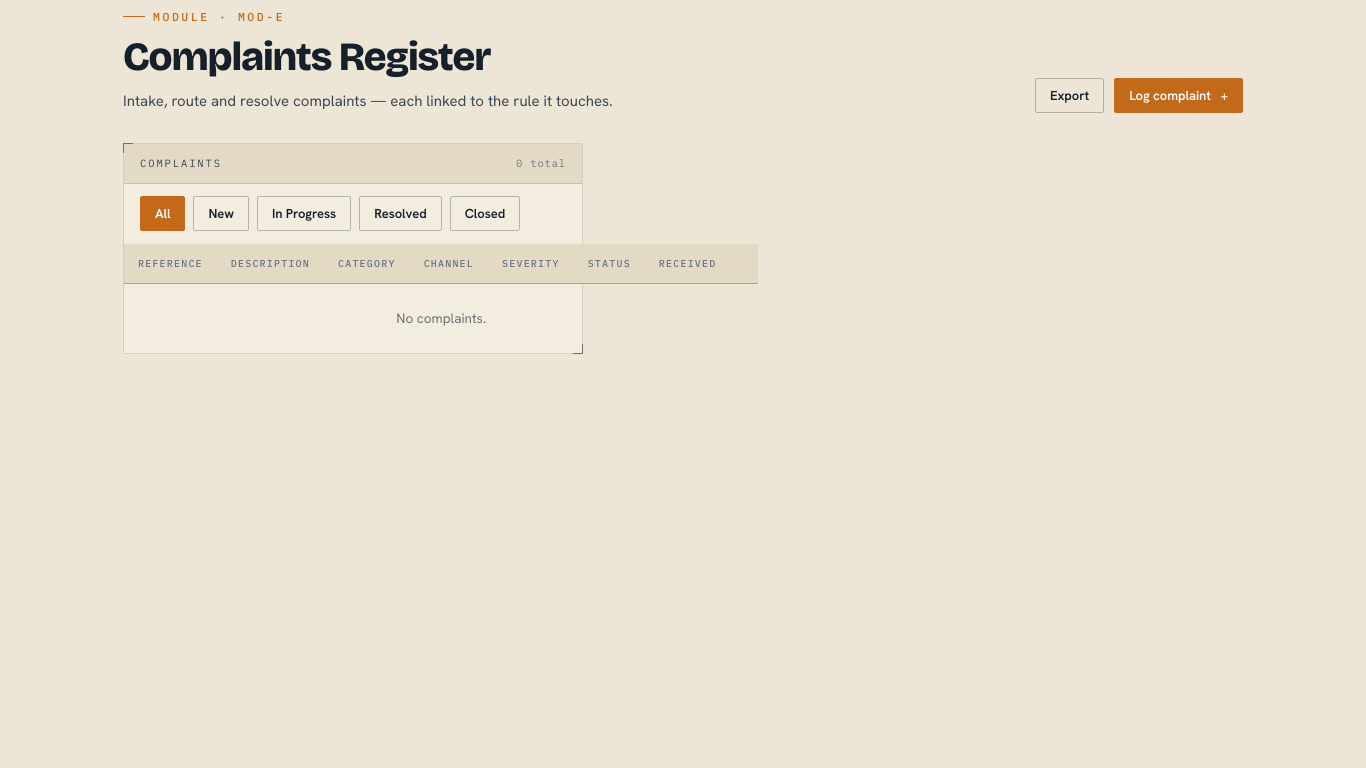
Test: ComplaintsPage › blocks submission when description is empty and shows validation message
Expected: the text "0 total" is shown, [516,156,566,172]
Click the button "Log complaint +". click: [1179, 96]
box: [1114,78,1243,114]
(page scrolled)
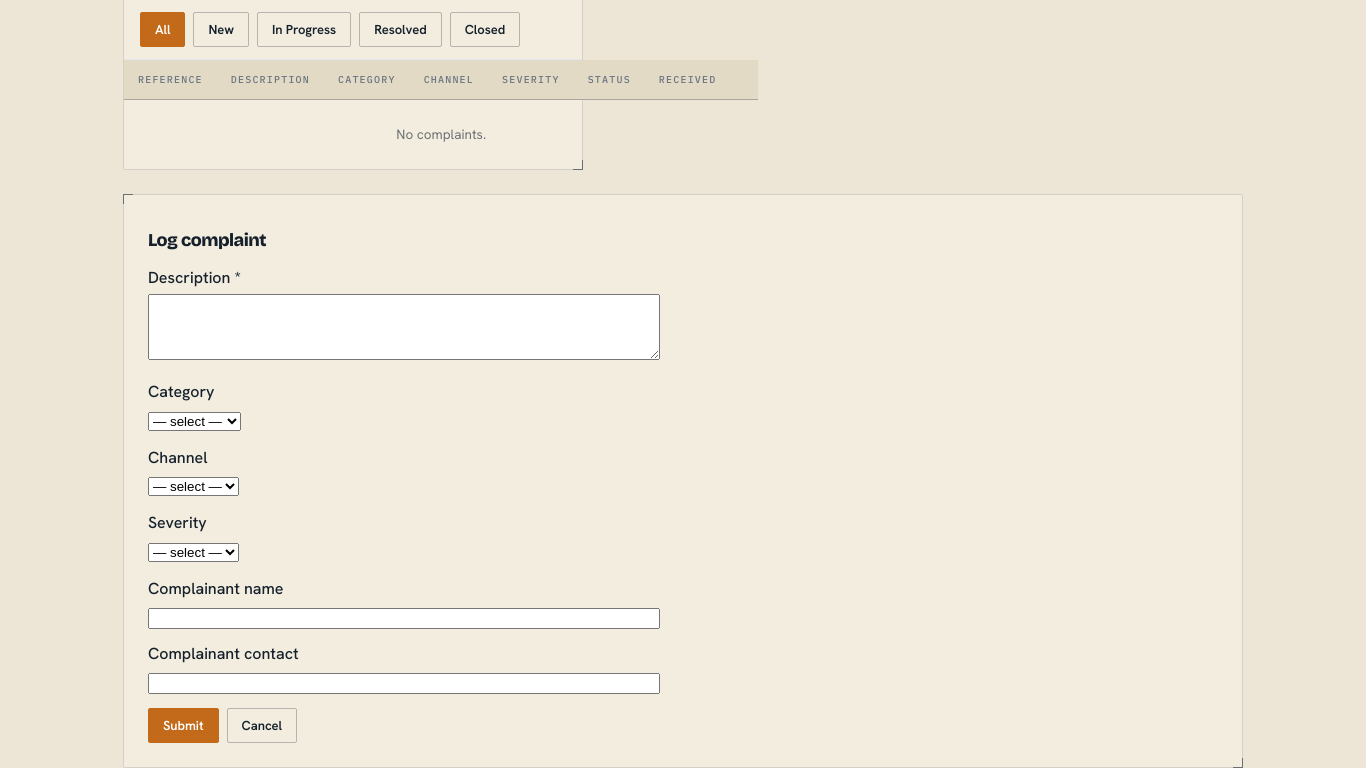
// Don't fill in description
Click the button "Submit". click: [183, 726]
box: [148,708,218,743]
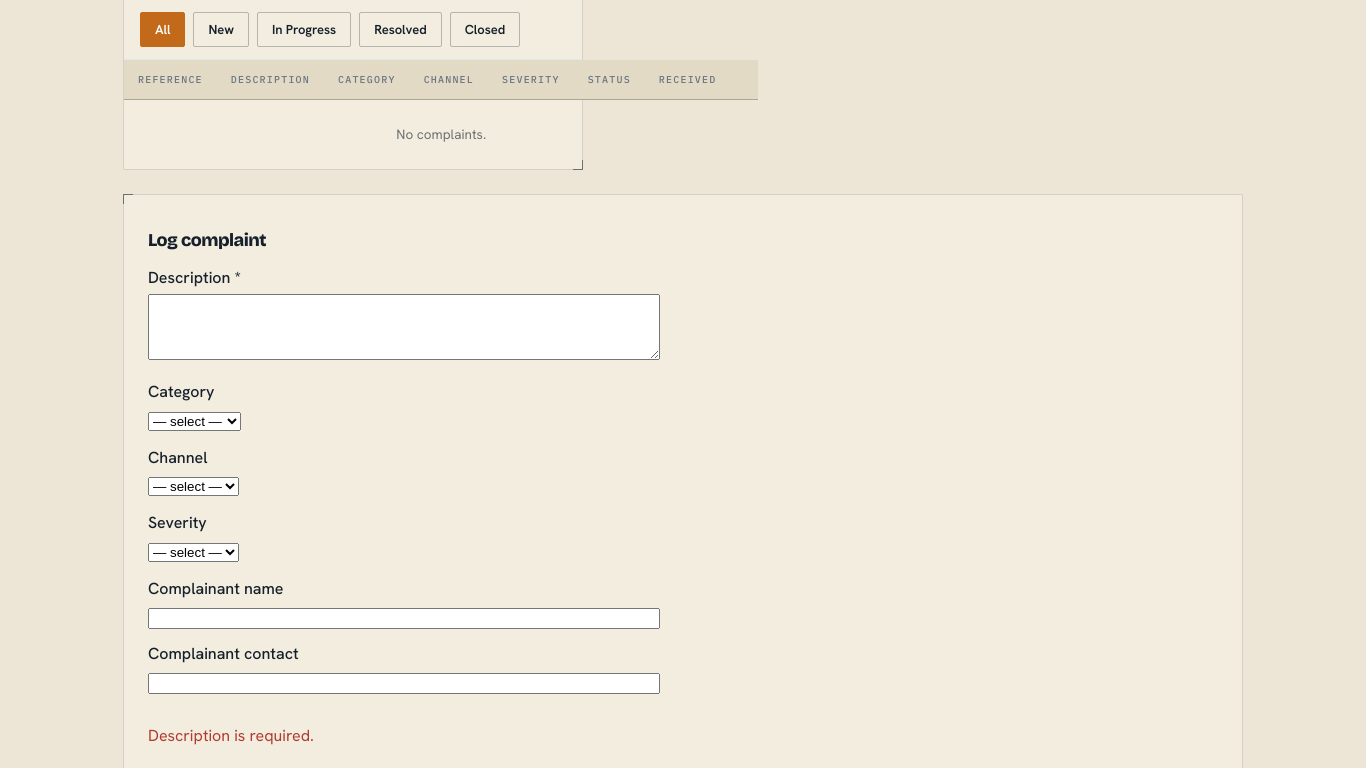
Now the text "Description is required." is shown, box [148,725,314,746]
